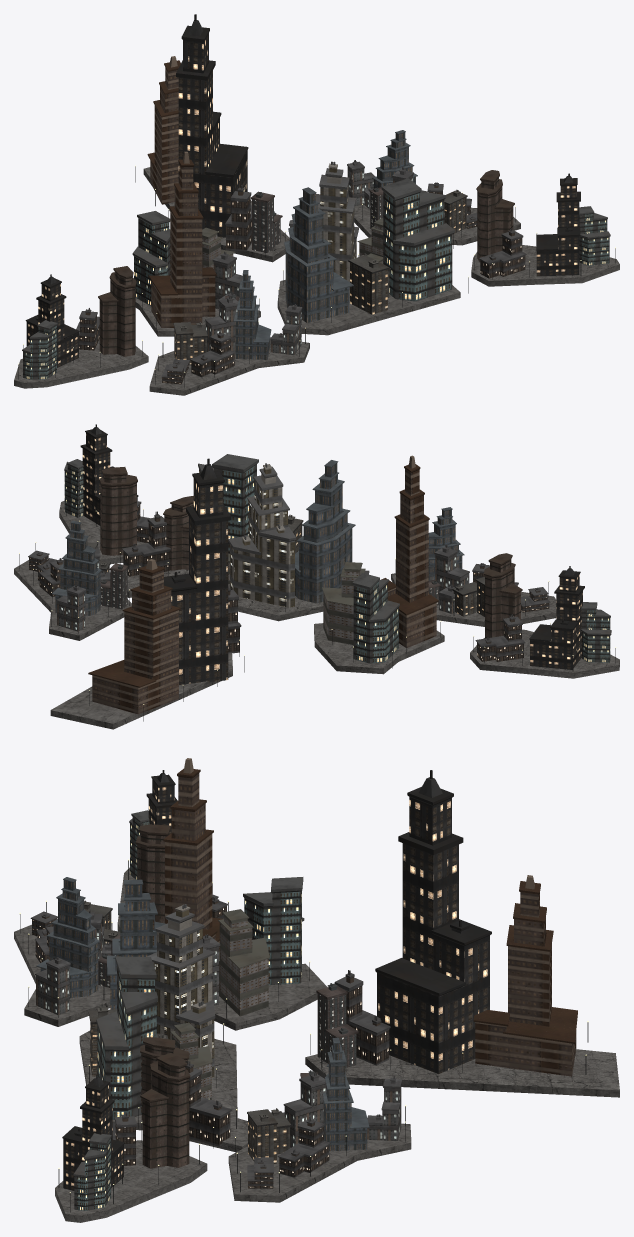
Rendered from skyscrapers1.fbx.
The picture shows the model from 3 angles, top to bottom: view 1: azimuth 30°, elevation 25°; view 2: azimuth 150°, elevation 25°; view 3: azimuth 270°, elevation 25°; orthographic projection. The views are drawn at different scales.
Visible parts, largest first — view 1: block4_3, block6_3, block10, block11_3, block10_2, block7, block4_2, block8, block6_4, floor_5, floor_3, floor (+25 smaller); view 2: block4_3, block10_2, block7, block10, block11_3, block6_4, block4, block8_2, block11_2, block6_3, floor_7, block8 (+21 smaller); view 3: block4_3, block10_2, floor_7, block7, block6_3, block10, block8_2, block6_4, block9_2, block11, floor_2, floor_4 (+23 smaller).
Boxes of the visible parts, x1,y1,x2,y2 form: block4_3: (176, 14, 248, 237); block6_3: (381, 178, 454, 301); block10: (149, 151, 216, 327); block11_3: (284, 187, 353, 322); block10_2: (147, 56, 180, 204); block7: (289, 161, 358, 297); block4_2: (536, 173, 580, 276); block8: (98, 266, 136, 356); block6_4: (132, 211, 170, 305); floor_5: (277, 280, 460, 335); floor_3: (149, 337, 309, 395); floor: (14, 339, 148, 388); block4_3: (164, 458, 231, 684); block10_2: (88, 559, 180, 714); block7: (228, 463, 296, 607); block10: (381, 455, 438, 647); block11_3: (295, 460, 355, 603); block6_4: (352, 573, 399, 663); block4: (529, 566, 584, 669); block8_2: (99, 467, 137, 555); block11_2: (52, 520, 101, 616); block6_3: (198, 454, 258, 553); floor_7: (50, 653, 232, 729); block8: (484, 553, 522, 638); block4_3: (375, 770, 491, 1073); block10_2: (473, 875, 577, 1076); floor_7: (305, 1049, 619, 1097); block7: (146, 904, 215, 1077); block6_3: (96, 956, 157, 1119); block10: (163, 758, 223, 951); block8_2: (140, 1053, 190, 1168); block6_4: (243, 877, 304, 984); block9_2: (218, 909, 269, 1016); block11: (36, 877, 99, 998); floor_2: (55, 1140, 207, 1222); floor_4: (228, 1123, 411, 1202).
Bounding box in the file's own units: 21211 × 7679 × 15226.
